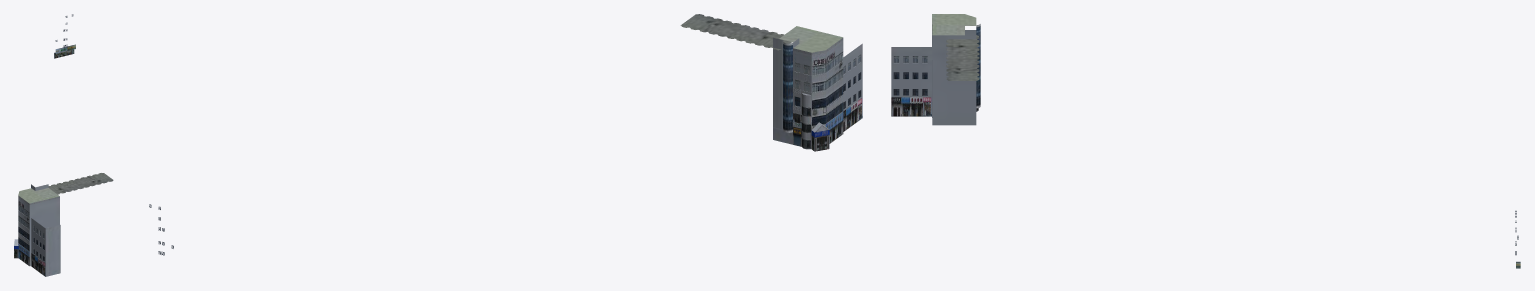
File: NoLod_4.glb
3 renders of one model, left to right at view 1: azimuth 30°, elevation 25°; view 2: azimuth 150°, elevation 25°; view 3: azimuth 270°, elevation 25°, orthographic. The views are drawn at different scales.
Visible parts, largest first — view 1: rtc; view 2: rtc; view 3: rtc.
Boxes of the visible parts, x1,y1,x2,y2 form: rtc: (14,14,113,276); rtc: (149,14,862,255); rtc: (891,14,1520,268).
Size of the model in its own units: 217 by 54.96 by 326.
Materials: 1 (1 with a texture image).
